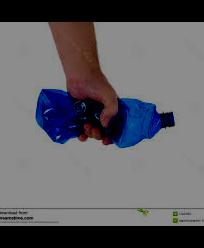Plastic: (28, 89, 182, 149)
